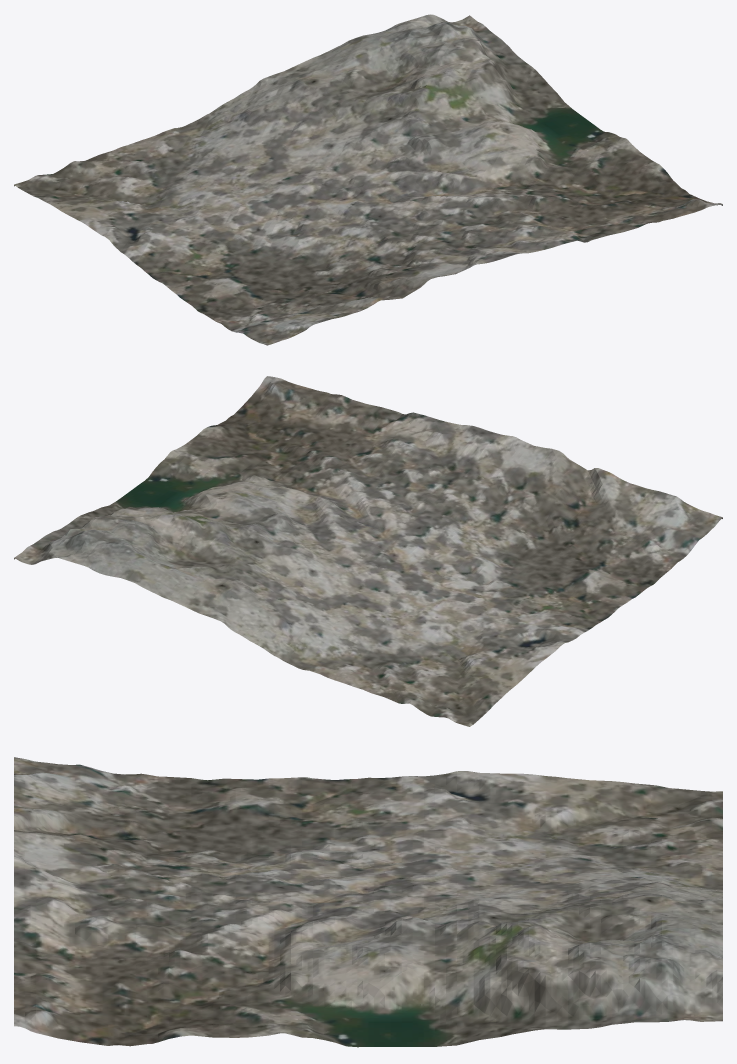
3 views of the same model, one above another, from view 1: azimuth 30°, elevation 25°; view 2: azimuth 150°, elevation 25°; view 3: azimuth 270°, elevation 25° (orthographic). The views are drawn at different scales.
Bounding box in the file's own units: 250 × 41.94 × 241.
Materials: 1 (1 with a texture image).
